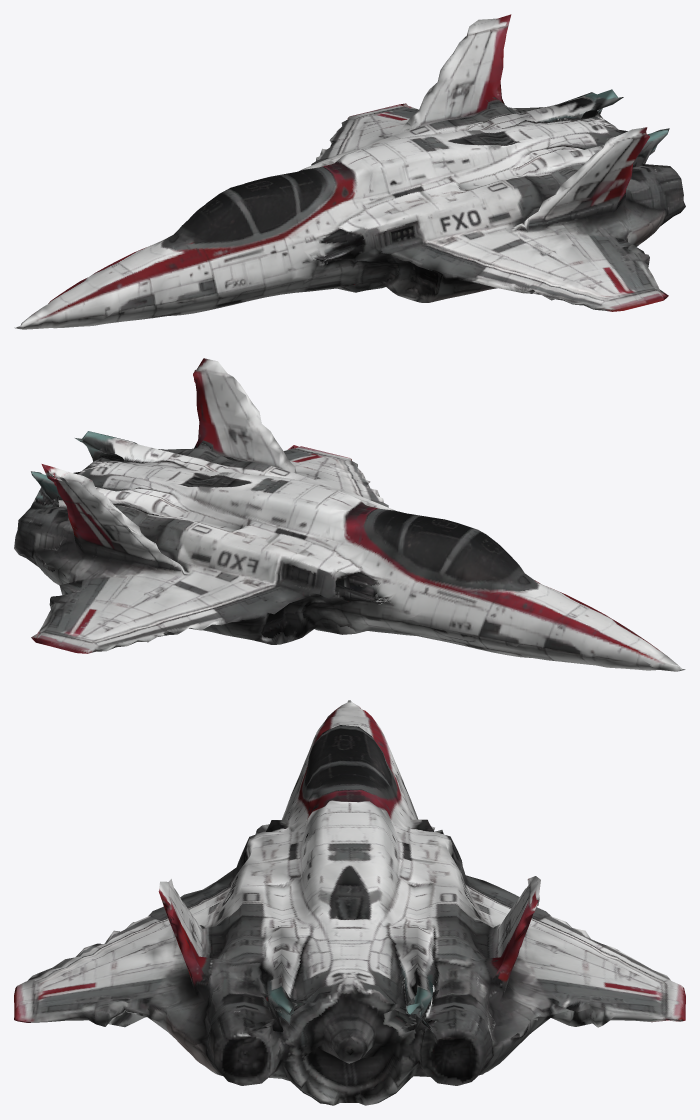
The model's file is spaceship_fighter_voxel_medium.glb.
The picture shows the model from 3 angles, top to bottom: view 1: azimuth 30°, elevation 25°; view 2: azimuth 150°, elevation 25°; view 3: azimuth 270°, elevation 25°; orthographic projection. The views are drawn at different scales.
Visible parts, largest first — view 1: Low; view 2: Low; view 3: Low.
Part boxes in pixels (x1,y1,x2,y2): Low: (14,14,685,329); Low: (14,358,685,671); Low: (14,700,685,1105).
Bounding box in the file's own units: 1.89 × 0.4475 × 1.38.
Materials: 1 (1 with a texture image).
